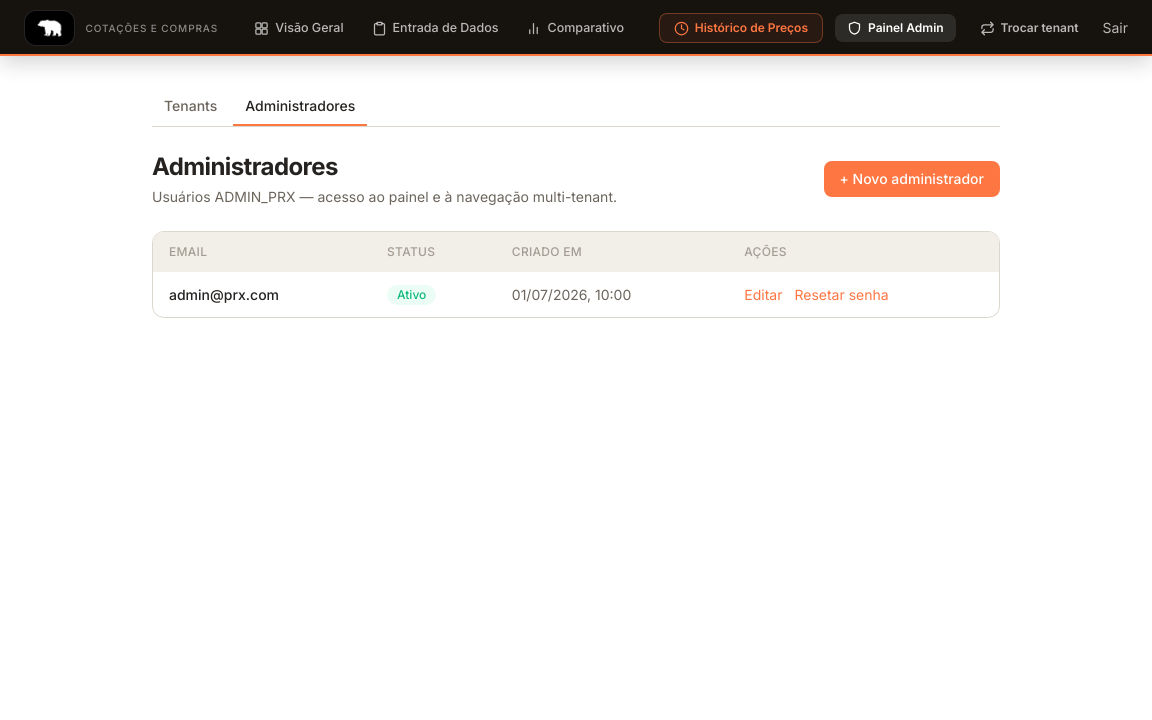
Test: AdministradoresPage — ação Resetar senha › mostra a senha gerada após o reset resolver
This screenshot has width=1152, height=720.
Expected: the text "admin@prx.com" is shown, x1=153 y1=272 x2=371 y2=317
Click the button "Resetar senha" at x=842, y=294, box x1=794 y1=284 x2=889 y2=304
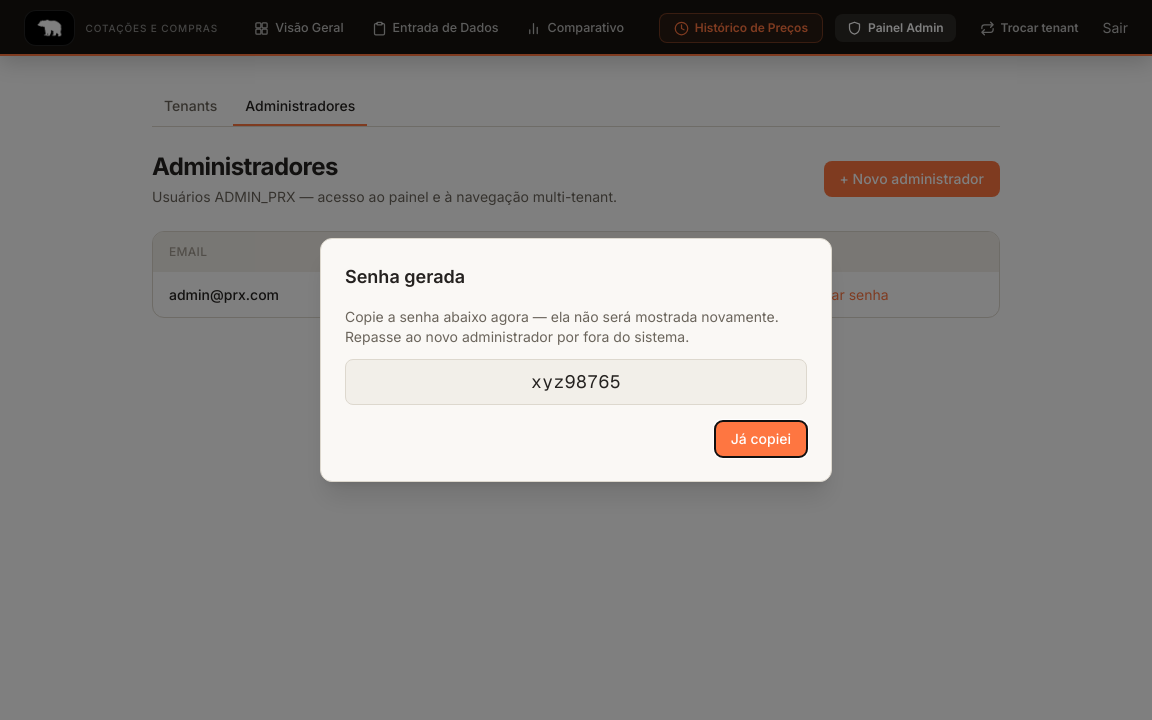
Expected: the text "xyz98765" is shown, x1=345 y1=359 x2=807 y2=405
